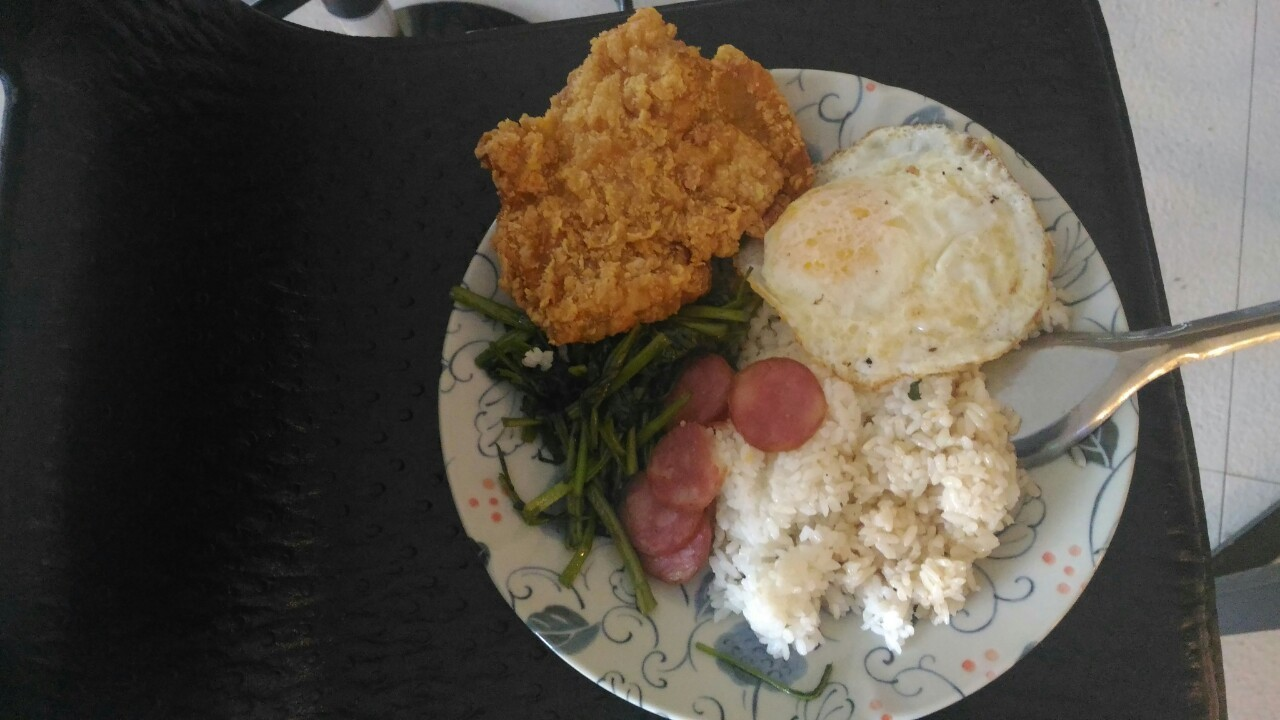chinese_sausage: (631, 351, 813, 574)
fried_chicken: (462, 9, 807, 340)
fried_eggs: (752, 114, 1039, 376)
rice: (733, 328, 1011, 640)
water_spinach: (480, 307, 730, 574)
